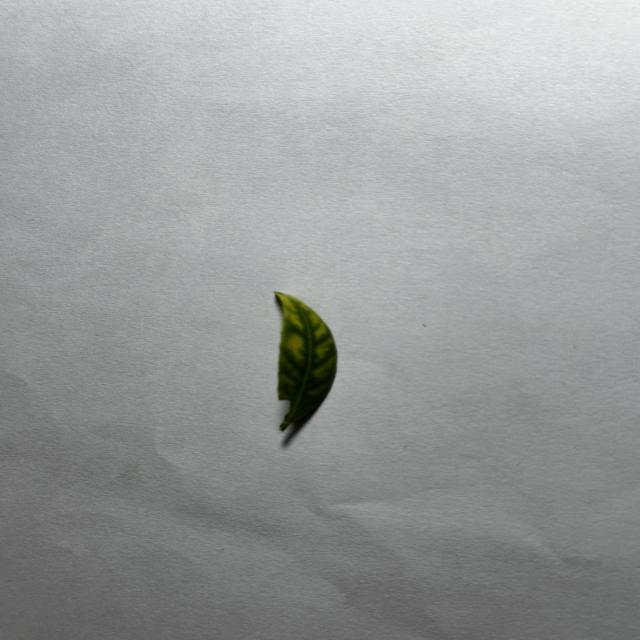greening: (275, 292, 337, 431)
